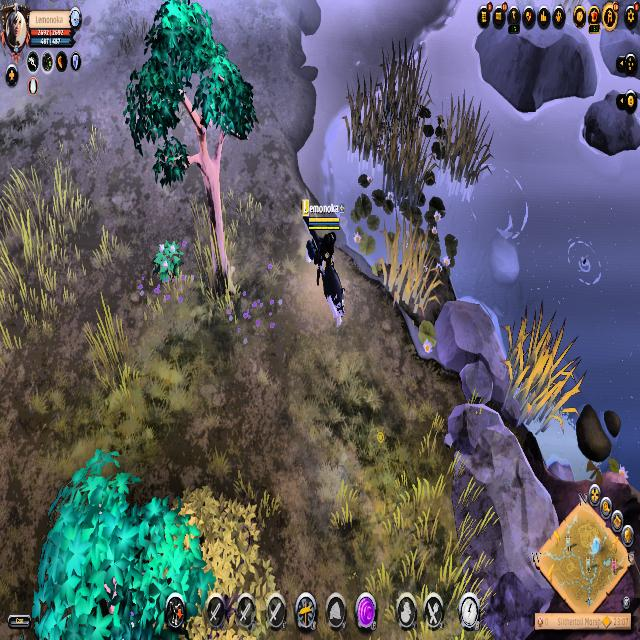fiber tier 3: (149, 236, 187, 293)
fish: (462, 150, 533, 250), (560, 224, 611, 296)
wood tier 3: (121, 0, 257, 195)
